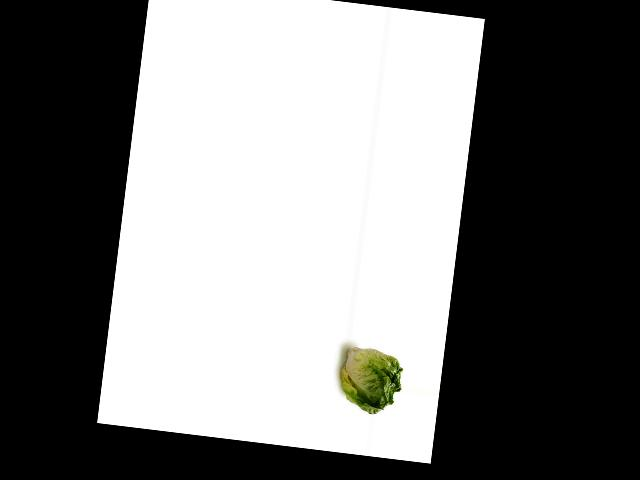lettuce: (337, 341, 408, 420)
